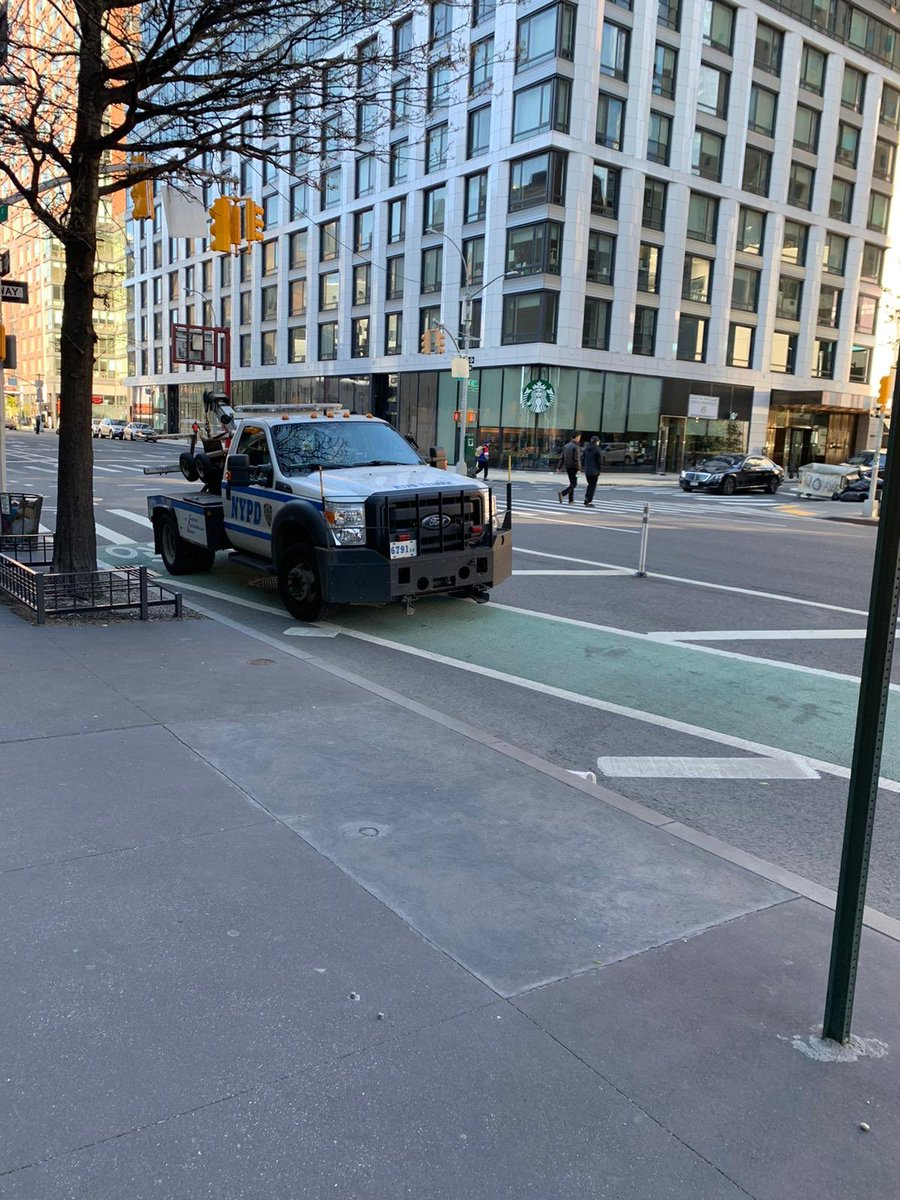building: (153, 1, 900, 433), (1, 225, 135, 431)
police car: (122, 379, 531, 623)
sidewalk: (9, 605, 900, 1200)
street: (457, 481, 900, 859)
tree: (22, 1, 429, 596)
